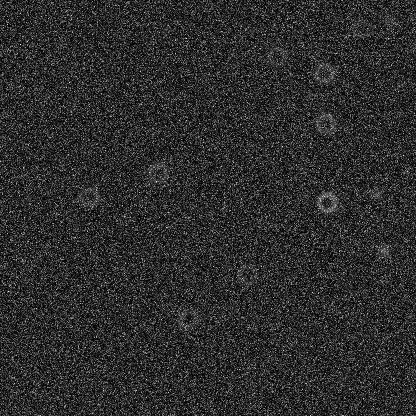Ring: (313, 111, 337, 135), (175, 307, 199, 331), (312, 61, 336, 85), (234, 262, 258, 286), (145, 160, 169, 184), (314, 190, 338, 214), (77, 185, 101, 209), (349, 15, 373, 39), (265, 44, 289, 68)
Spot: (368, 185, 384, 201), (382, 11, 398, 27), (333, 368, 349, 384), (375, 242, 391, 258)
